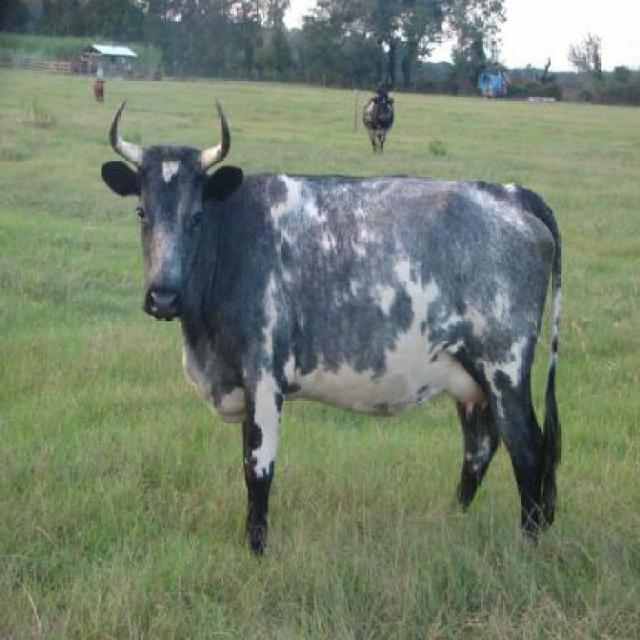Cow: (102, 100, 563, 552)
